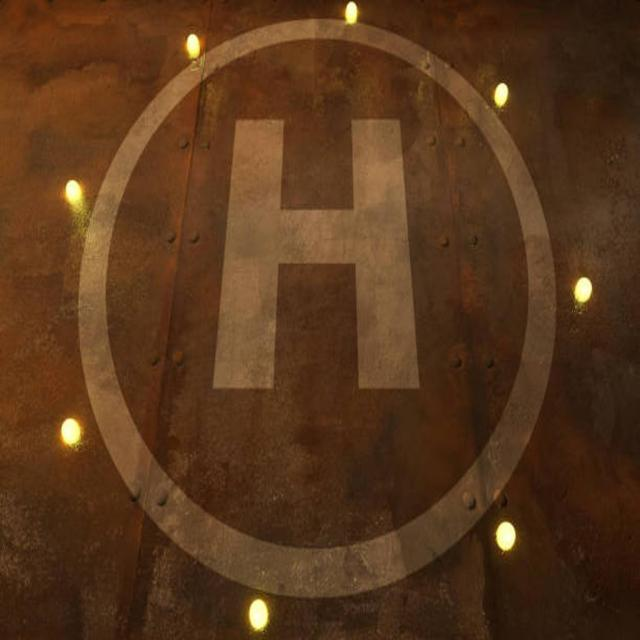helipad: (74, 19, 558, 601)
